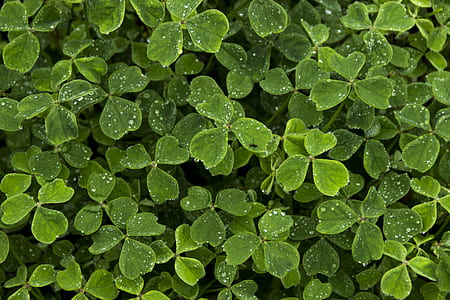oxalis: (23, 18, 449, 298)
